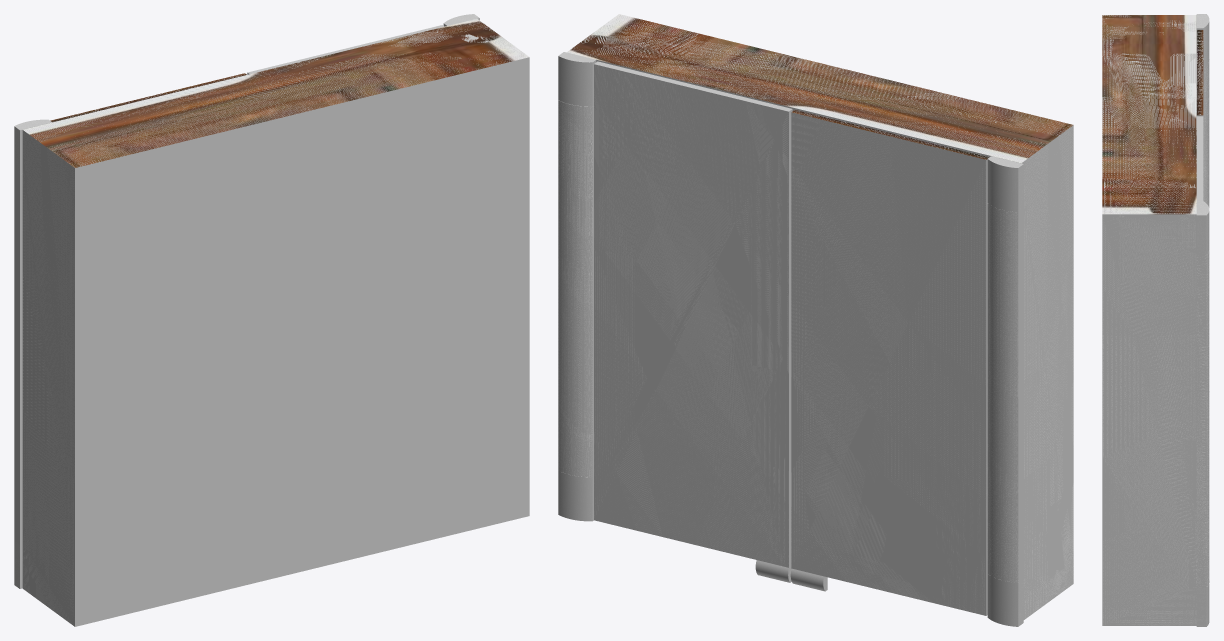
The picture shows the model from 3 angles, left to right: view 1: azimuth 30°, elevation 25°; view 2: azimuth 150°, elevation 25°; view 3: azimuth 270°, elevation 25°; orthographic projection. The views are drawn at different scales.
Parts seen in each view (by area): view 1: mesh1_mesh1-geometry; view 2: mesh1_mesh1-geometry; view 3: mesh1_mesh1-geometry.
Part boxes in pixels (box(x1,y1,x2,y2)): mesh1_mesh1-geometry: box(14, 14, 529, 626); mesh1_mesh1-geometry: box(558, 14, 1073, 626); mesh1_mesh1-geometry: box(1102, 14, 1209, 626).
Size of the model in its own units: 0.7037 by 0.6926 by 0.1583.
